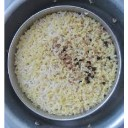venpongal: (23, 23, 104, 111)
